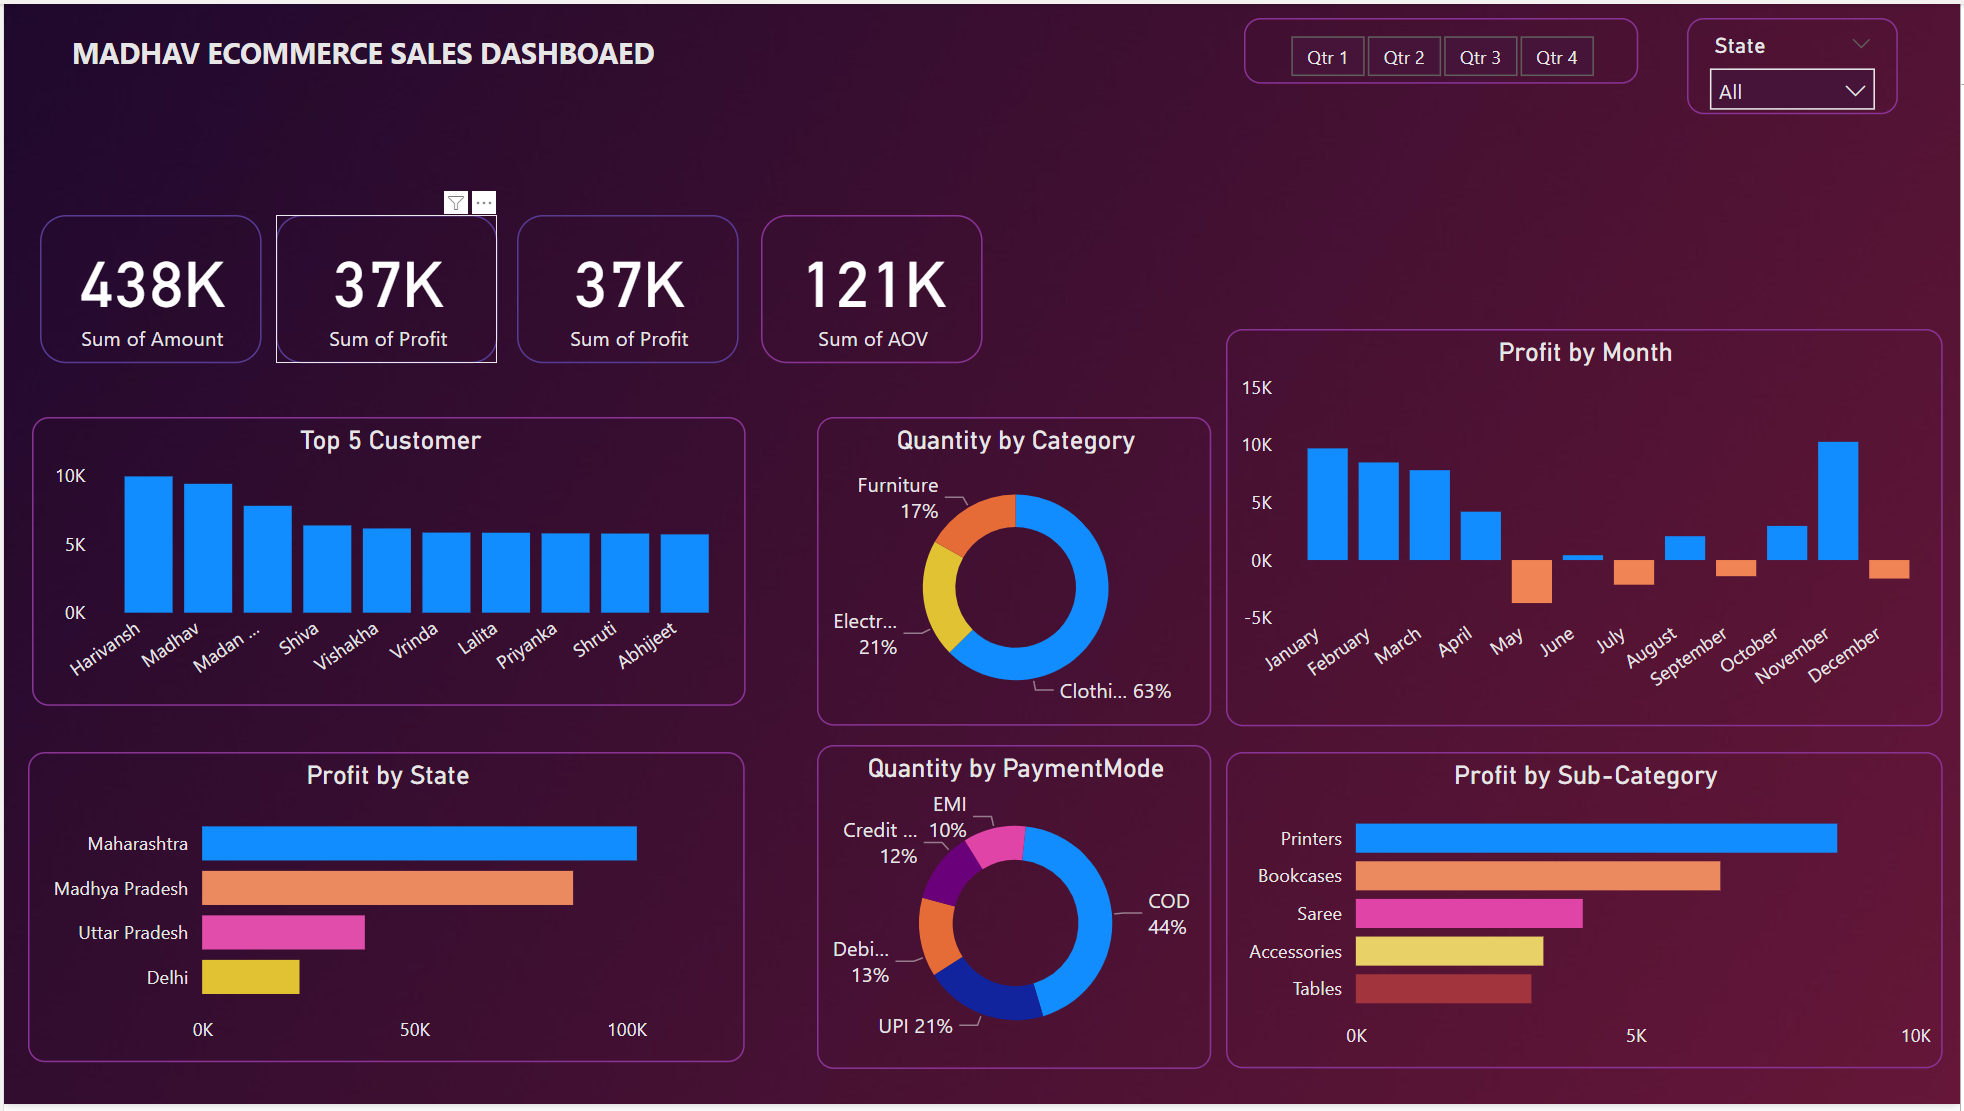

The page's visual inventory and layout, read from the dashboard file:
{"tool":"powerbi","page":{"name":"Madhave Ecommerce Sales Dashboard","canvas":[1280,720],"ordinal":0},"visuals":[{"type":"columnChart","title":"Profit by Month","fields":{"Y":["Sum(Details.Profit)"],"Category":["Orders.Order Date.Variation.Date Hierarchy.Month"]},"box":[799.9,212.8,468.8,259.7],"z":0},{"type":"barChart","title":"Profit by Sub-Category","fields":{"Category":["Details.Sub-Category"],"Y":["Sum(Details.Profit)"]},"box":[799.7,489.5,469.2,206.8],"z":1000},{"type":"donutChart","title":"Quantity by Category","fields":{"Category":["Details.Category"],"Y":["Sum(Details.Quantity)"]},"box":[532.2,270.1,258.5,202.4],"z":2000},{"type":"donutChart","title":"Quantity by PaymentMode","fields":{"Y":["Sum(Details.Quantity)"],"Category":["Details.PaymentMode"]},"box":[532.2,484.7,258.5,211.5],"z":3000},{"type":"textbox","box":[15.7,14.4,438.4,38],"z":4000},{"type":"card","fields":{"Values":["Sum(Details.Amount)"]},"box":[23.8,138.1,144.6,96.9],"z":5000},{"type":"card","fields":{"Values":["Sum(Details.Profit)"]},"box":[178.2,138.1,144.6,96.9],"z":6000},{"type":"card","fields":{"Values":["Sum(Details.Profit)"]},"box":[335.9,138.1,144.6,96.9],"z":7000},{"type":"card","fields":{"Values":["Sum(Details.AOV)"]},"box":[495.6,138.1,144.6,96.9],"z":8000},{"type":"barChart","title":"Profit by State","fields":{"Category":["Orders.State"],"Y":["Sum(Details.Amount)"]},"box":[15.7,489.5,469.2,202.9],"z":9000},{"type":"columnChart","title":"Top 5 Customer","fields":{"Category":["Orders.CustomerName"],"Y":["Sum(Details.Amount)"]},"box":[18.3,270.3,467.2,189.1],"z":10000},{"type":"slicer","fields":{"Values":["Orders.Order Date.Variation.Date Hierarchy.Quarter"]},"box":[811.5,9.2,257.8,43.2],"z":11000},{"type":"slicer","fields":{"Values":["Orders.State"]},"box":[1101.3,9.2,138.1,62.8],"z":12000}]}

Visuals, with their boxes in screenshot pixels (x1, y1, x2, y2), scaled from the page's 1280x720 canvas onto the 1964x1111 screenshot:
"Profit by Month" columnChart: BBox(1227, 328, 1947, 729)
"Profit by Sub-Category" barChart: BBox(1227, 755, 1947, 1074)
"Quantity by Category" donutChart: BBox(817, 417, 1213, 729)
"Quantity by PaymentMode" donutChart: BBox(817, 748, 1213, 1074)
textbox: BBox(24, 22, 697, 81)
card - Sum(Details.Amount): BBox(37, 213, 258, 363)
card - Sum(Details.Profit): BBox(273, 213, 495, 363)
card - Sum(Details.Profit): BBox(515, 213, 737, 363)
card - Sum(Details.AOV): BBox(760, 213, 982, 363)
"Profit by State" barChart: BBox(24, 755, 744, 1068)
"Top 5 Customer" columnChart: BBox(28, 417, 745, 709)
slicer - Orders.Order Date.Variation.Date Hierarchy.Quarter: BBox(1245, 14, 1641, 81)
slicer - Orders.State: BBox(1690, 14, 1902, 111)
